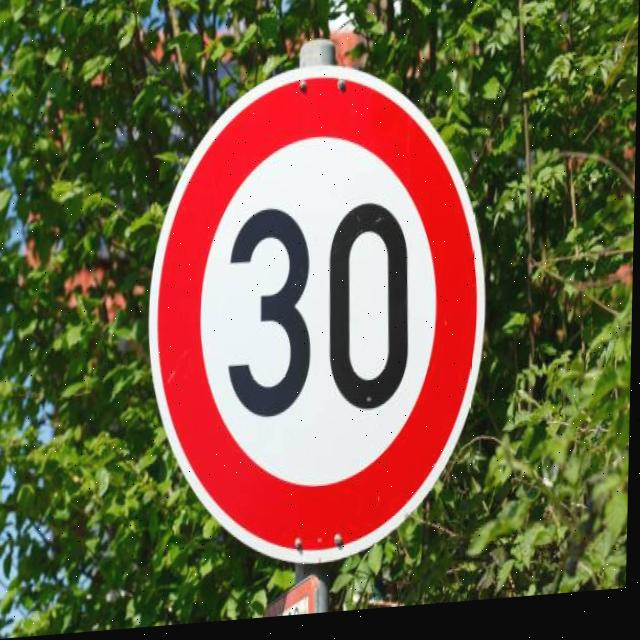Speed limit 30: (143, 54, 495, 584)
